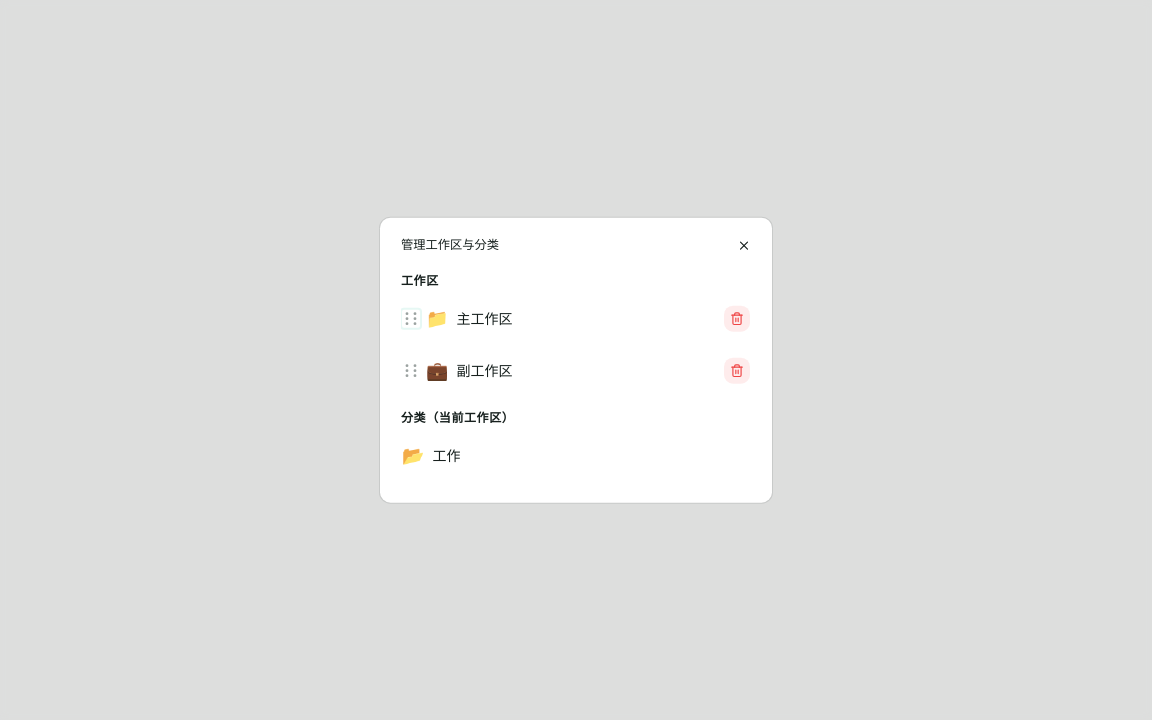
Scenario: ManagePanel — 工作区与分类管理 › 点击工作区项进入编辑态，显示名称输入框与图标选择器
This screenshot has width=1152, height=720.
Step 1. Click the button with aria-label "编辑 主工作区" → coordinates (484, 318), box [425,301,719,337]
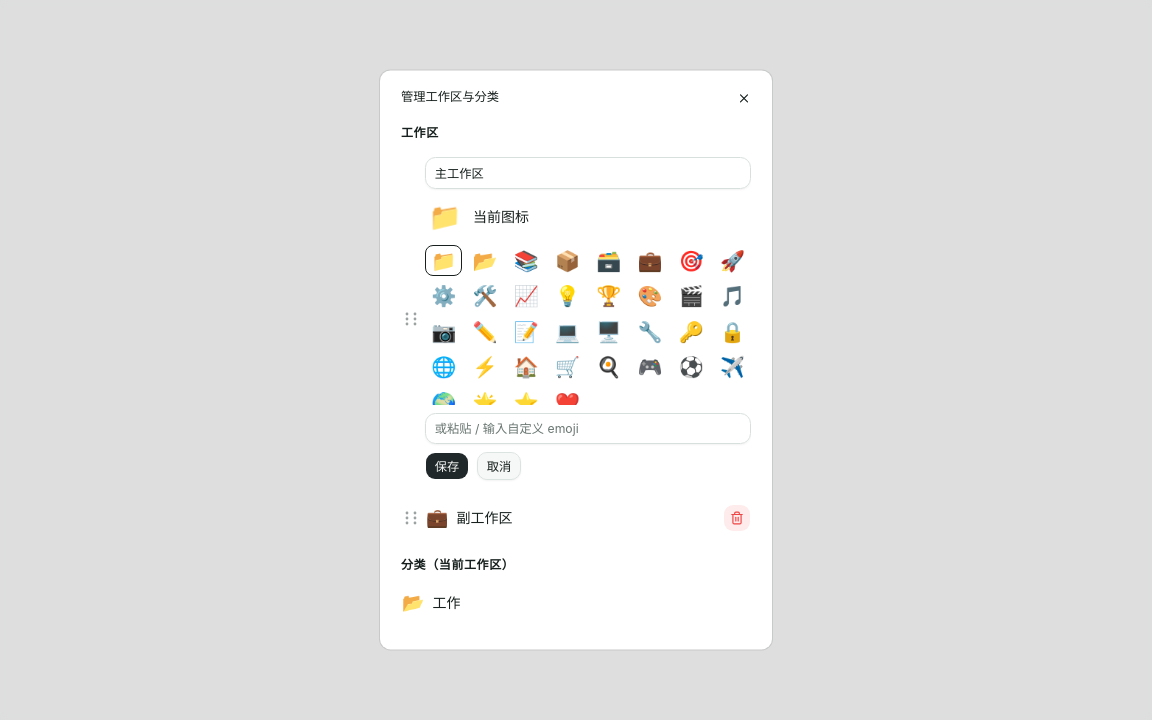
Now the button named "选择图标" is shown, box [425,245,462,277]
Now the field showing "主工作区" is shown, box [425,158,751,189]
